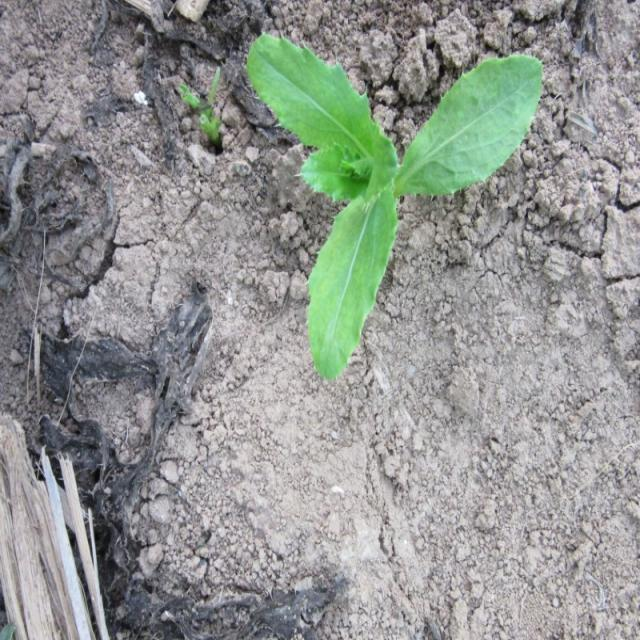cs: (246, 30, 545, 384)
